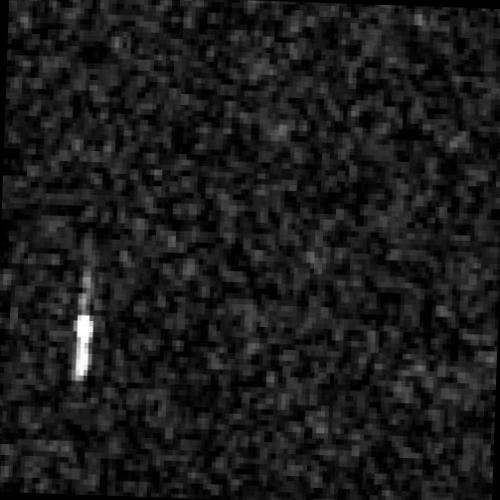ship: (71, 312, 94, 379)
